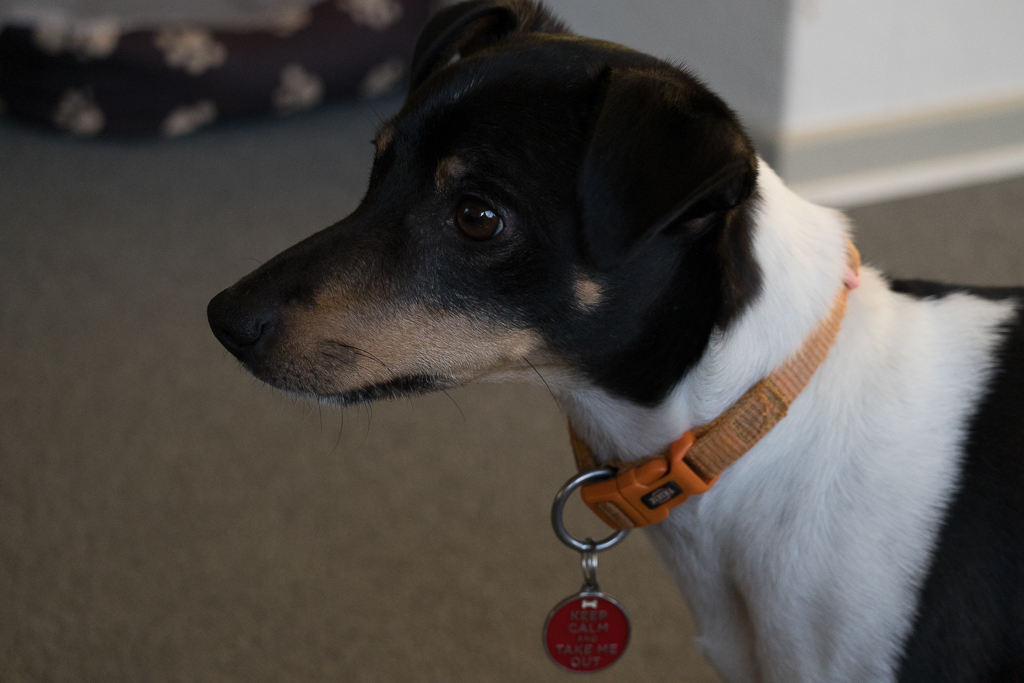Dog: (200, 0, 1024, 683)
